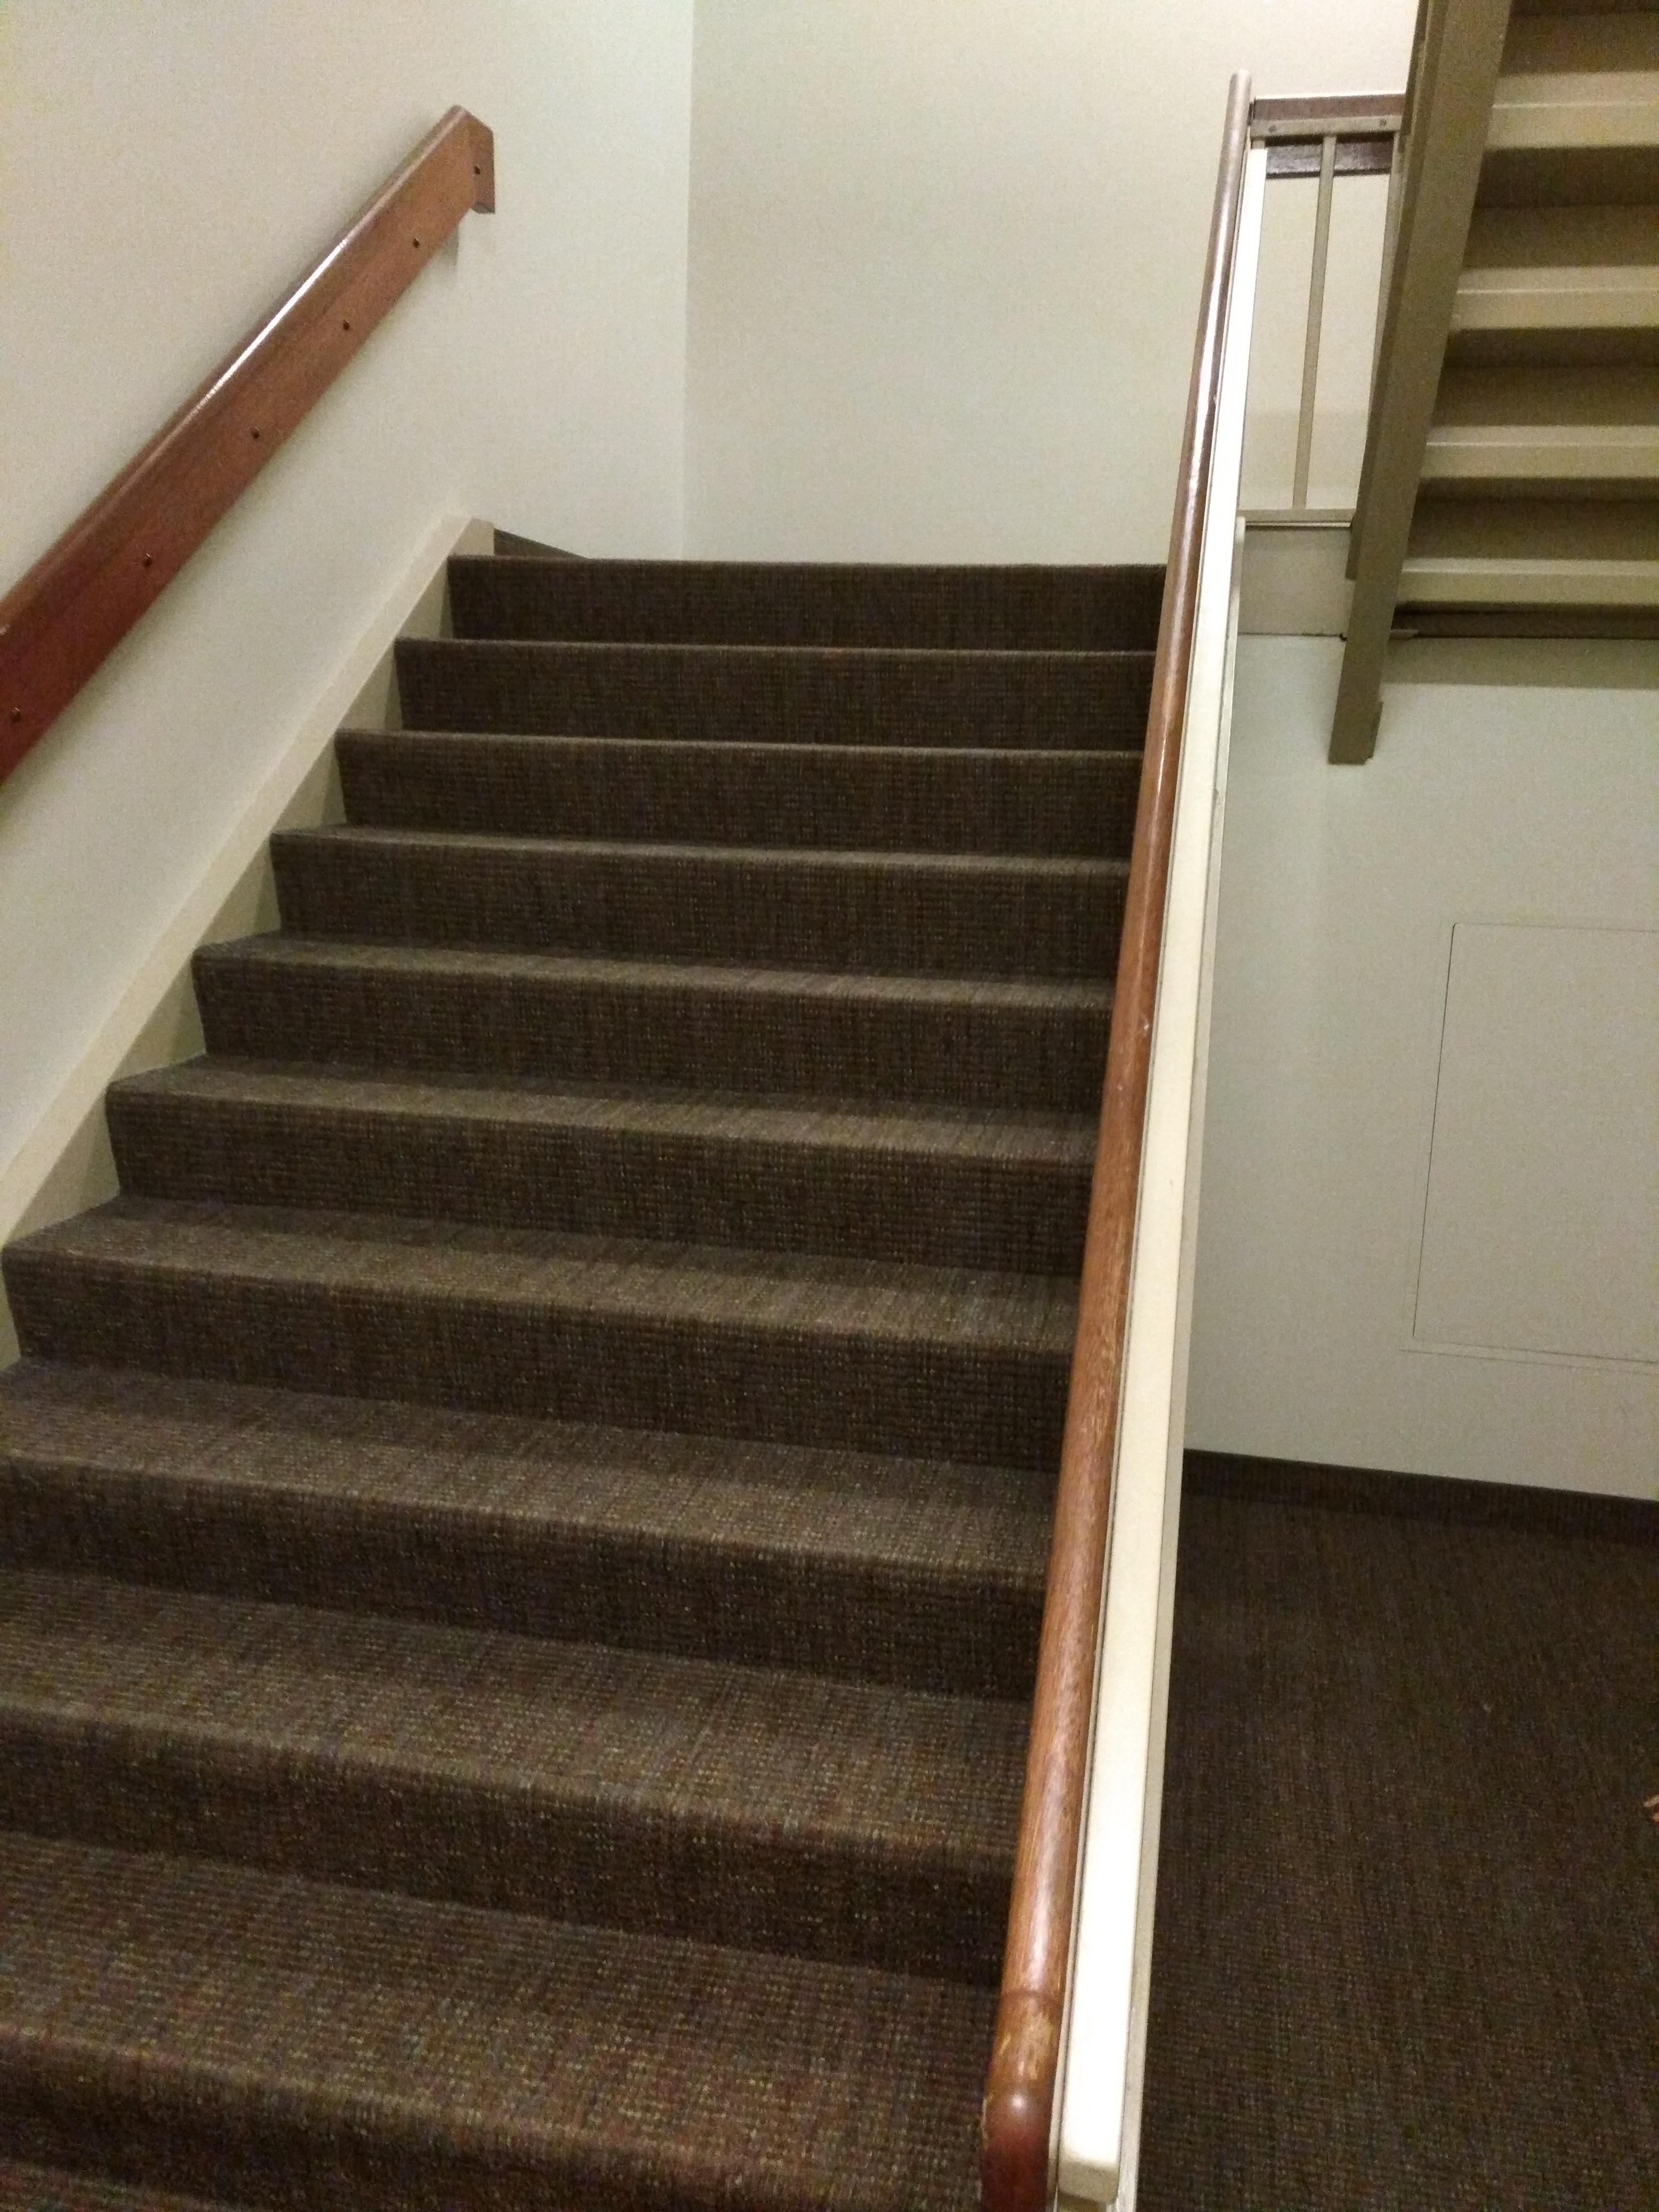stairs_up: (0, 535, 1185, 2196)
